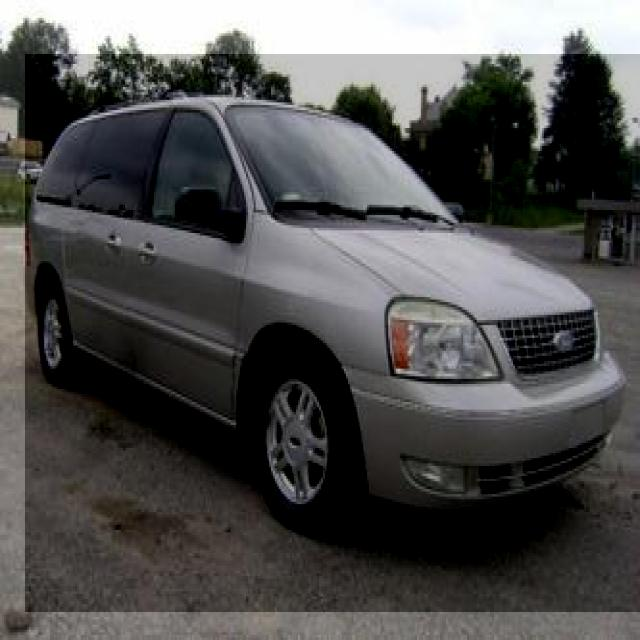Car: (25, 54, 640, 612)
